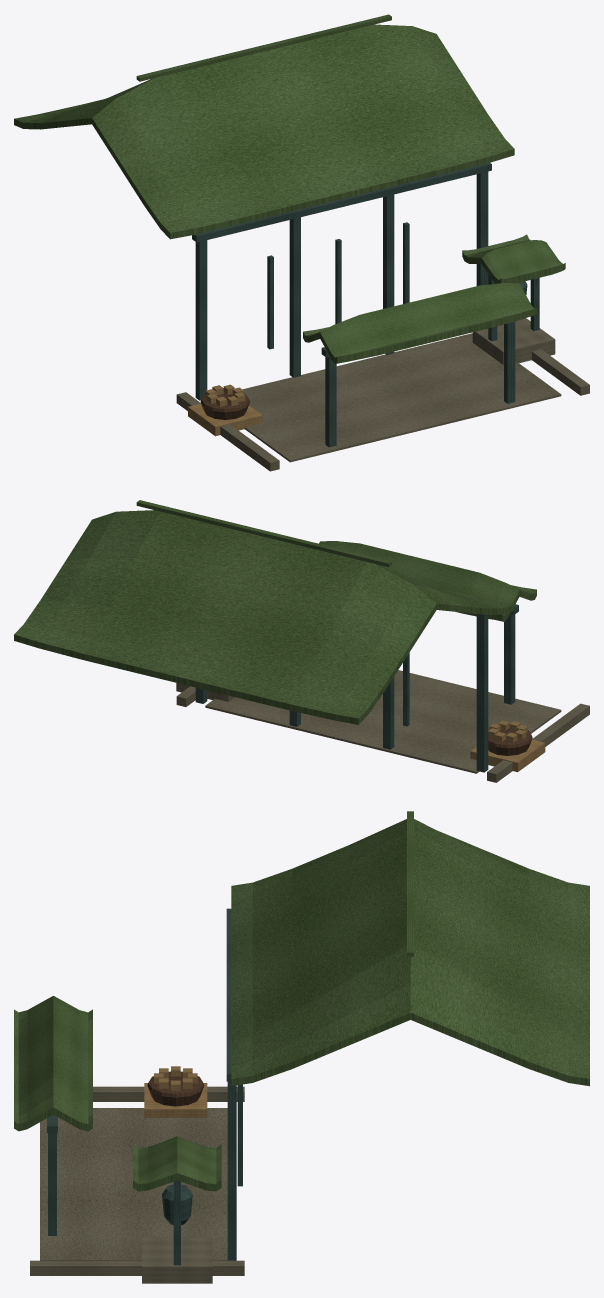
3 renders of one model, top to bottom at view 1: azimuth 30°, elevation 25°; view 2: azimuth 150°, elevation 25°; view 3: azimuth 270°, elevation 25°, orthographic. The views are drawn at different scales.
Parts seen in each view (by area): view 1: garrison_part_0001, garrison_part_0000, garrison_part_0002; view 2: garrison_part_0001, garrison_part_0000, garrison_part_0002; view 3: garrison_part_0001, garrison_part_0000, garrison_part_0002.
Part boxes in pixels (bbox=[...]): garrison_part_0001: bbox=[14, 24, 565, 363]; garrison_part_0000: bbox=[176, 171, 589, 471]; garrison_part_0002: bbox=[136, 14, 527, 419]; garrison_part_0001: bbox=[14, 510, 536, 724]; garrison_part_0000: bbox=[176, 614, 589, 782]; garrison_part_0002: bbox=[136, 500, 532, 755]; garrison_part_0001: bbox=[14, 819, 589, 1265]; garrison_part_0000: bbox=[30, 910, 244, 1283]; garrison_part_0002: bbox=[147, 811, 413, 1225].
Bounding box in the file's own units: 936 × 672 × 1153.
